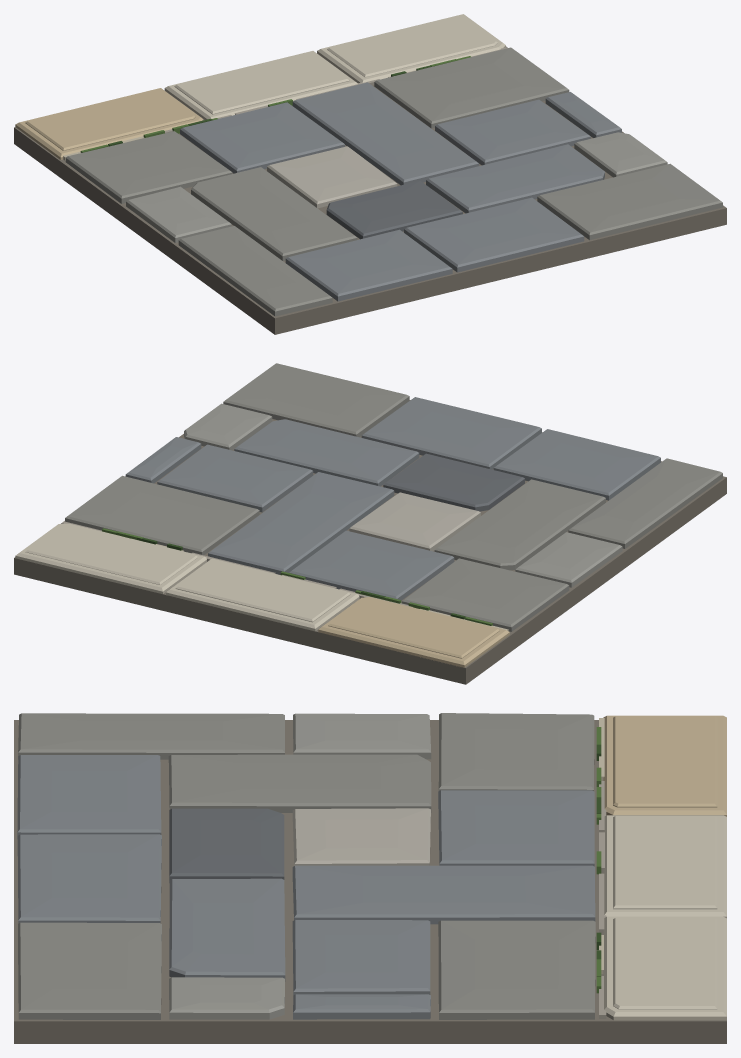
The model's file is SM_LPD_Floor_PavingBorderCourse_01.fbx.
3 renders of one model, top to bottom at view 1: azimuth 30°, elevation 25°; view 2: azimuth 150°, elevation 25°; view 3: azimuth 270°, elevation 25°, orthographic. The views are drawn at different scales.
Visible parts, largest first — view 1: SM_LPD_Floor_PavingBorderCourse_01; view 2: SM_LPD_Floor_PavingBorderCourse_01; view 3: SM_LPD_Floor_PavingBorderCourse_01.
Part boxes in pixels (x1,y1,x2,y2): SM_LPD_Floor_PavingBorderCourse_01: (14, 14, 726, 334); SM_LPD_Floor_PavingBorderCourse_01: (14, 363, 726, 684); SM_LPD_Floor_PavingBorderCourse_01: (14, 713, 726, 1043).
Bounding box in the file's own units: 4 × 0.2 × 4.
